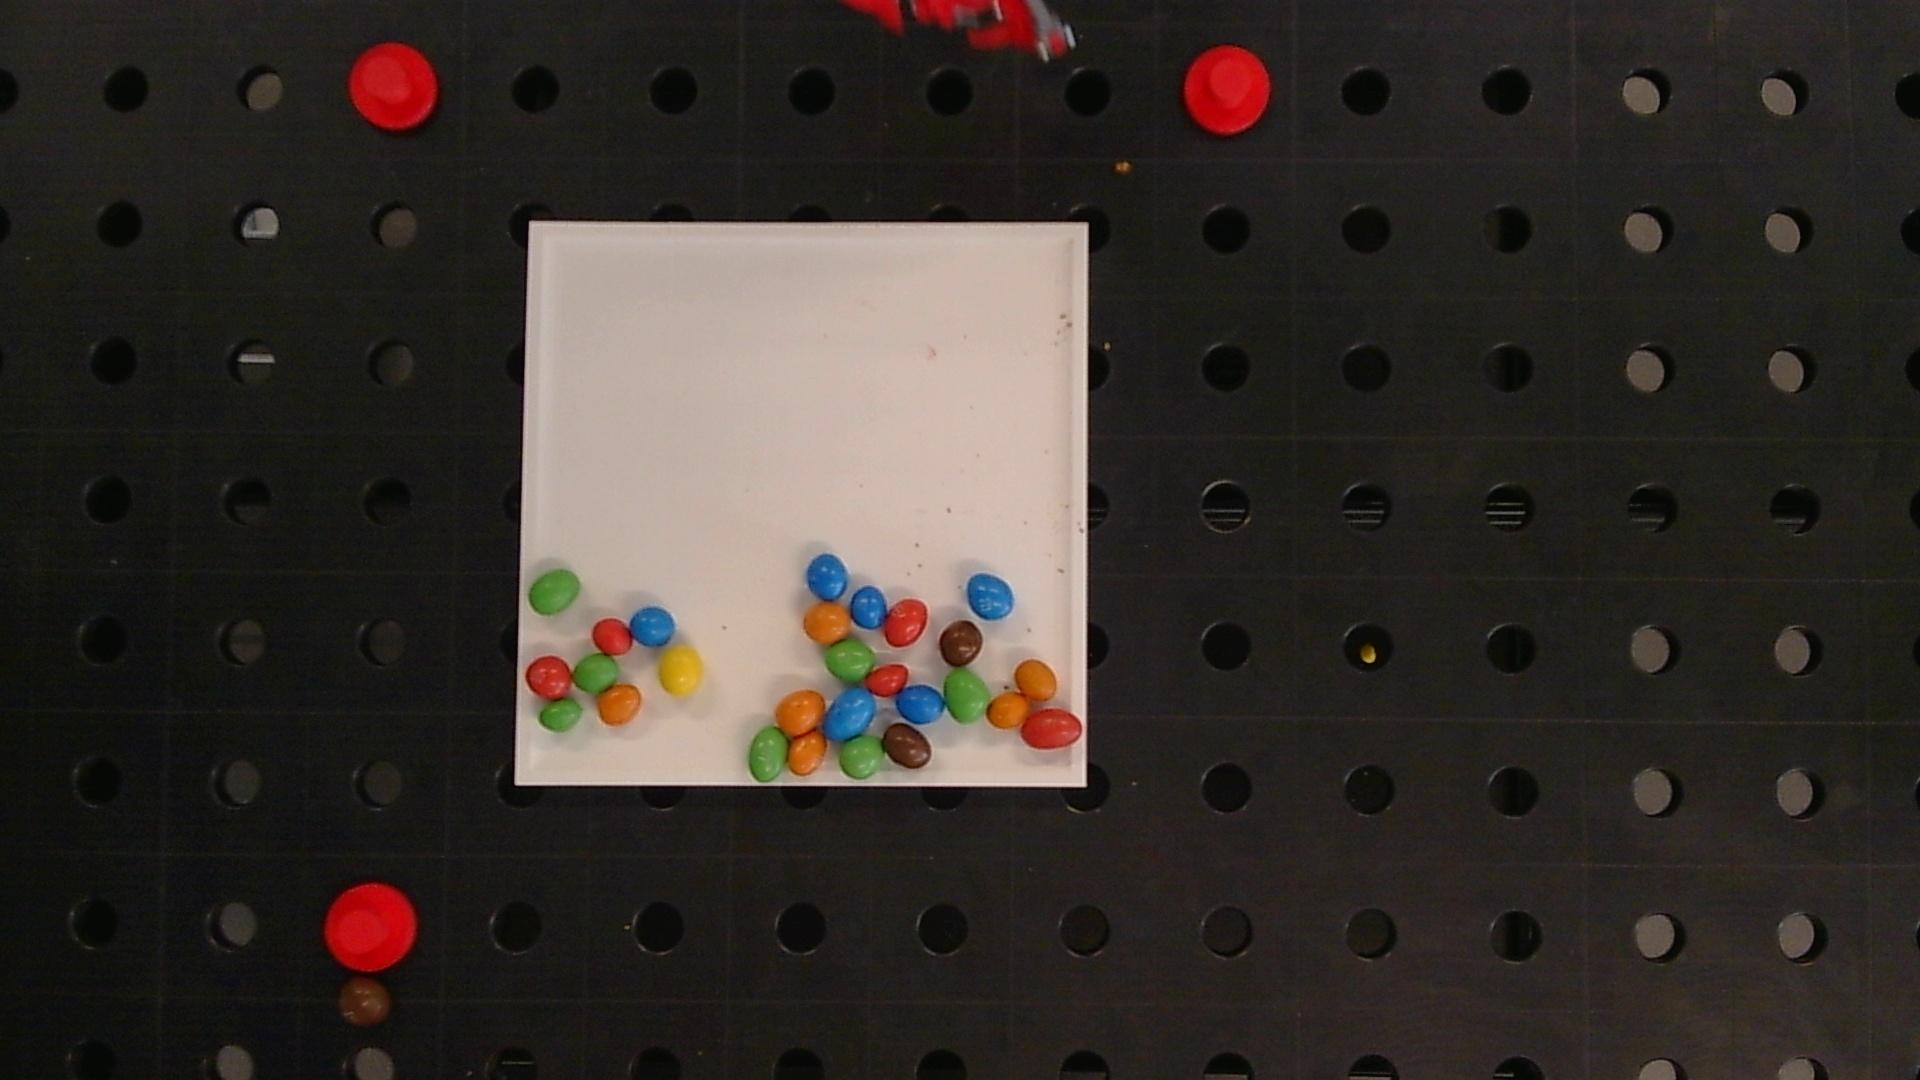blue: (824, 688, 877, 740), (967, 574, 1014, 618), (807, 553, 848, 600), (897, 684, 944, 724), (629, 607, 675, 646), (851, 585, 887, 629)
brown: (882, 723, 932, 769), (939, 620, 984, 666)
green: (527, 570, 580, 615), (944, 670, 989, 723), (748, 727, 787, 782), (825, 641, 876, 682), (839, 737, 884, 779), (574, 654, 617, 692), (538, 699, 583, 732)
orange: (775, 690, 825, 736), (804, 603, 852, 645), (597, 683, 641, 725), (1015, 658, 1058, 702), (789, 731, 827, 775), (988, 694, 1030, 728)
red: (1019, 709, 1083, 748), (525, 655, 572, 699), (885, 599, 927, 646), (592, 617, 632, 655), (866, 663, 909, 695)
yellow: (659, 646, 703, 695)
